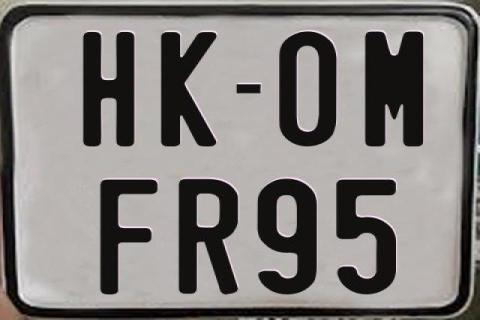0: (257, 178, 322, 298), (333, 180, 398, 296), (277, 31, 336, 151)
F: (98, 180, 157, 300)
H: (84, 29, 140, 149)
K: (161, 31, 220, 149)
M: (364, 31, 422, 147)
R: (177, 179, 240, 297)
